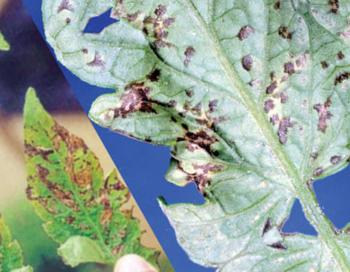Tomato leaf bacterial spot: (53, 0, 350, 272), (0, 66, 177, 272)
